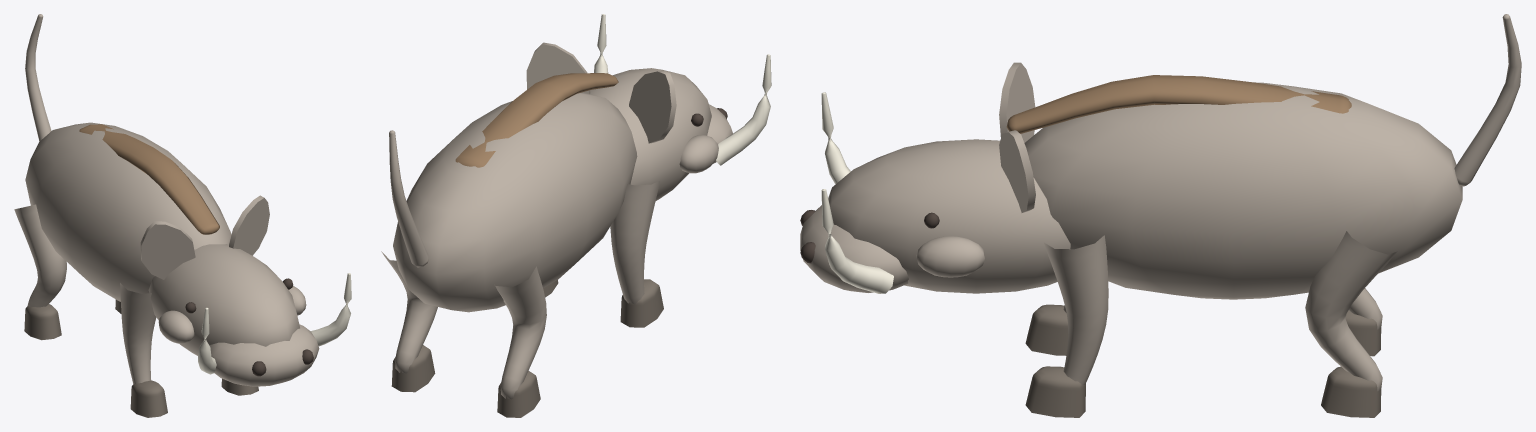
File: boar.glb
3 views of the same model, side by side, from view 1: azimuth 30°, elevation 25°; view 2: azimuth 150°, elevation 25°; view 3: azimuth 270°, elevation 25° (orthographic). The views are drawn at different scales.
Parts seen in each view (by area): view 1: warthog; view 2: warthog; view 3: warthog.
Part boxes in pixels (x1=…): warthog: x1=14, y1=14, x2=351, y2=417; warthog: x1=381, y1=14, x2=771, y2=417; warthog: x1=800, y1=14, x2=1521, y2=417.
Bounding box in the file's own units: 0.7581 × 1.29 × 2.27.
